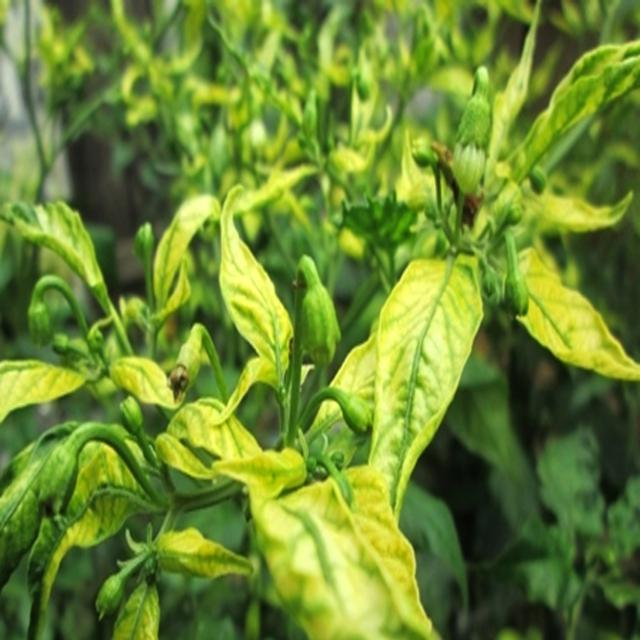virus_kuning: (367, 238, 482, 491), (193, 184, 309, 422), (505, 246, 640, 392)
